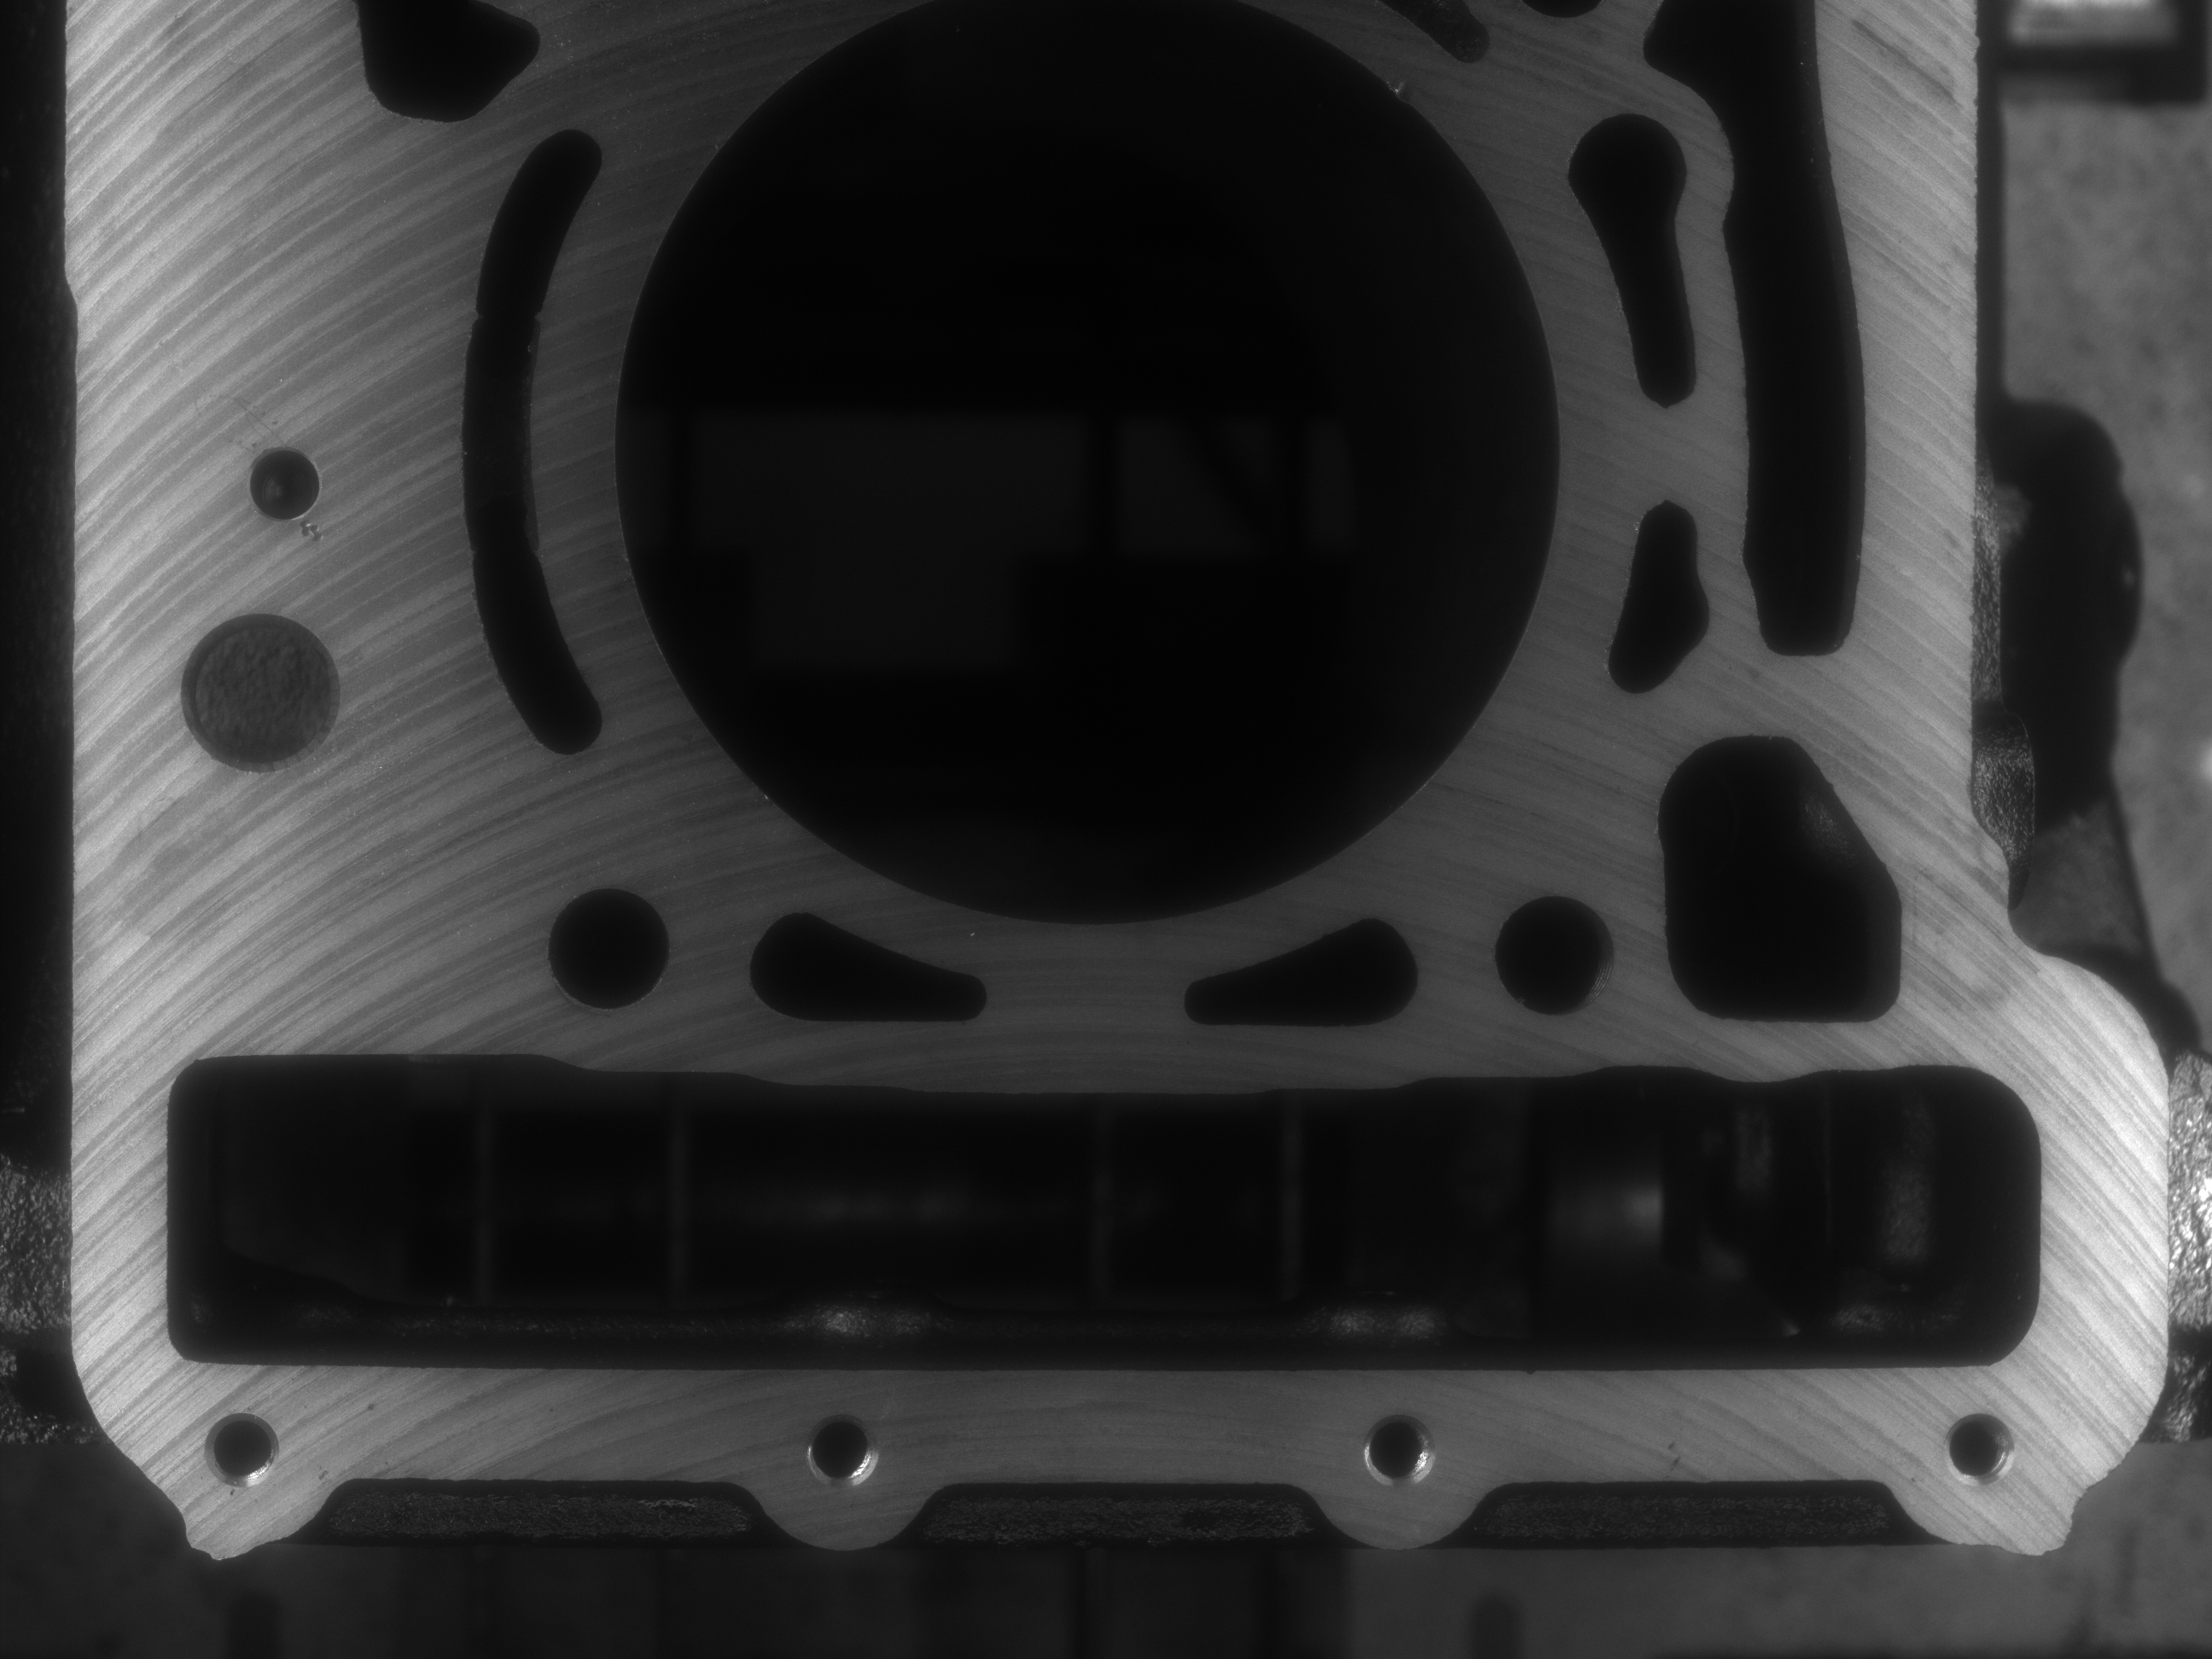shrinkage: (289, 511, 329, 544)
